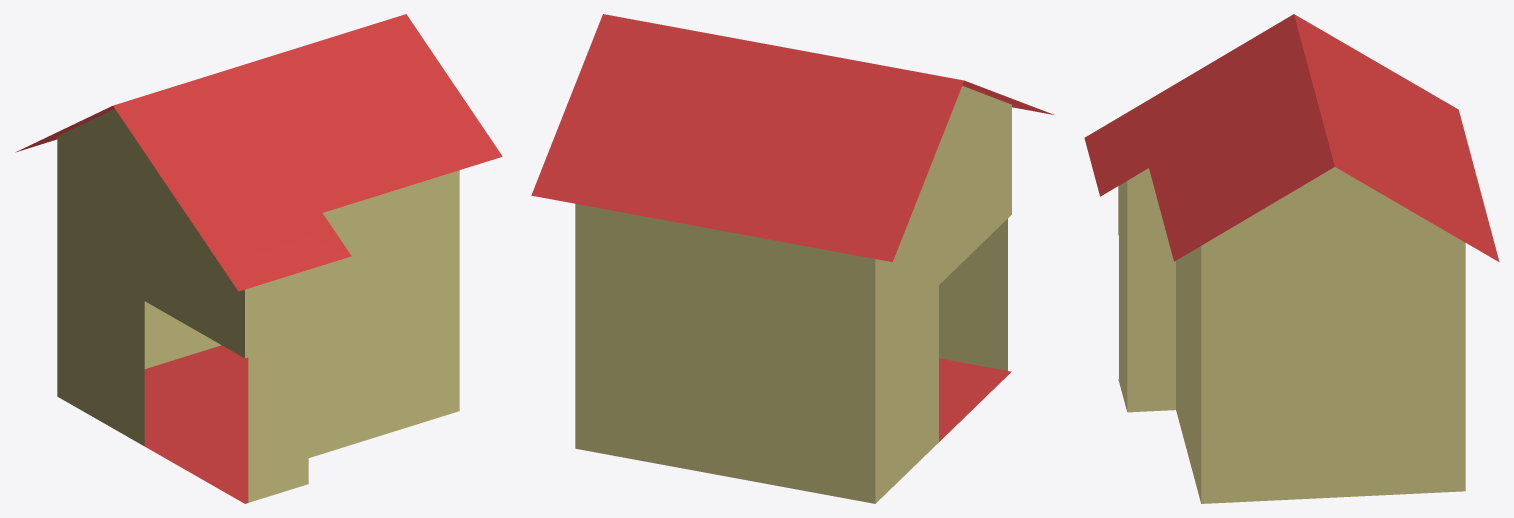
3 views of the same model, side by side, from view 1: azimuth 30°, elevation 25°; view 2: azimuth 150°, elevation 25°; view 3: azimuth 270°, elevation 25° (orthographic). The views are drawn at different scales.
Size of the model in its own units: 12.95 by 13.5 by 12.33.
